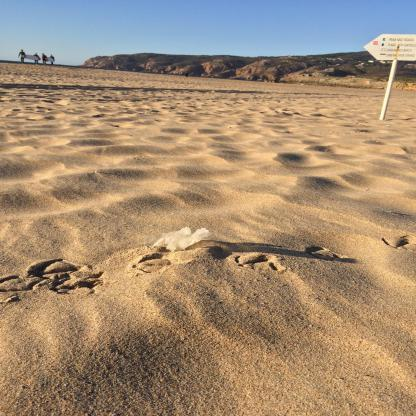plastik: (144, 228, 213, 254)
